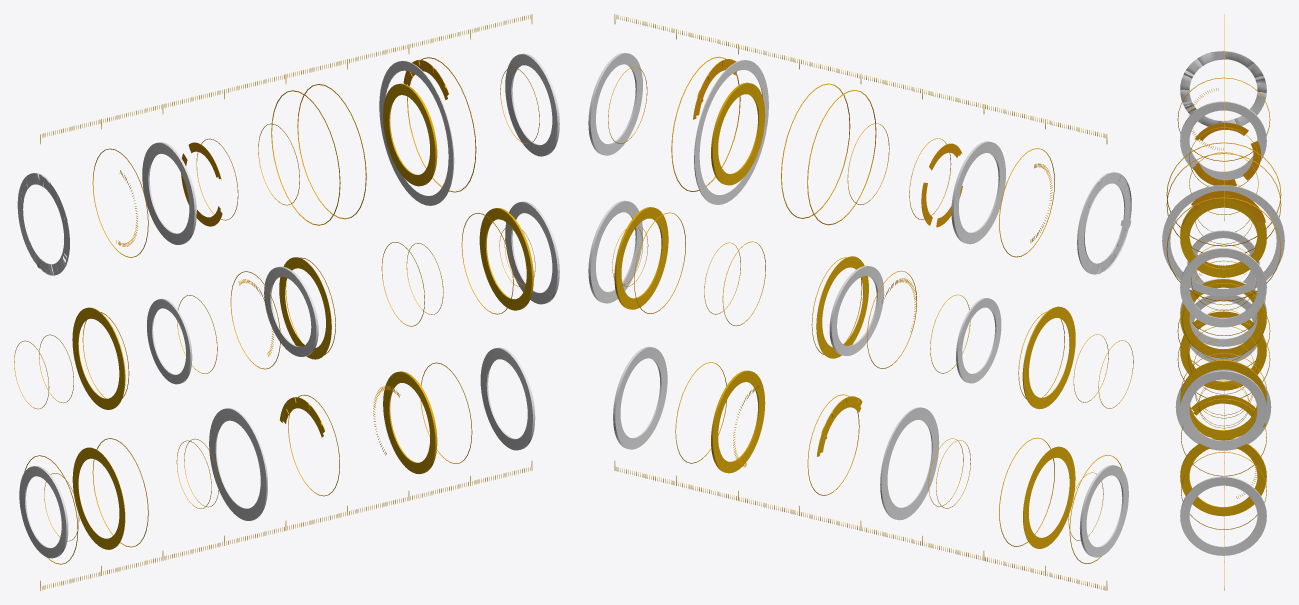
The model's file is machine.gltf.
The picture shows the model from 3 angles, left to right: view 1: azimuth 30°, elevation 25°; view 2: azimuth 150°, elevation 25°; view 3: azimuth 270°, elevation 25°; orthographic projection. The views are drawn at different scales.
Visible parts, largest first — view 1: Sphere.001, Torus.002, Curve.010, Curve.011; view 2: Sphere.001, Torus.002, Curve.011, Curve.010; view 3: Torus.002, Sphere.001, Curve.010.
Boxes of the visible parts, bbox=[...] form: Sphere.001: bbox=[14, 57, 539, 564]; Torus.002: bbox=[17, 53, 559, 558]; Curve.010: bbox=[40, 14, 532, 144]; Curve.011: bbox=[40, 461, 532, 590]; Sphere.001: bbox=[608, 56, 1133, 563]; Torus.002: bbox=[588, 52, 1131, 557]; Curve.011: bbox=[614, 461, 1107, 590]; Curve.010: bbox=[614, 14, 1107, 143]; Torus.002: bbox=[1162, 50, 1284, 555]; Sphere.001: bbox=[1166, 77, 1281, 529]; Curve.010: bbox=[1224, 14, 1224, 220].
Size of the model in its own units: 0.4143 by 0.3602 by 0.106.
